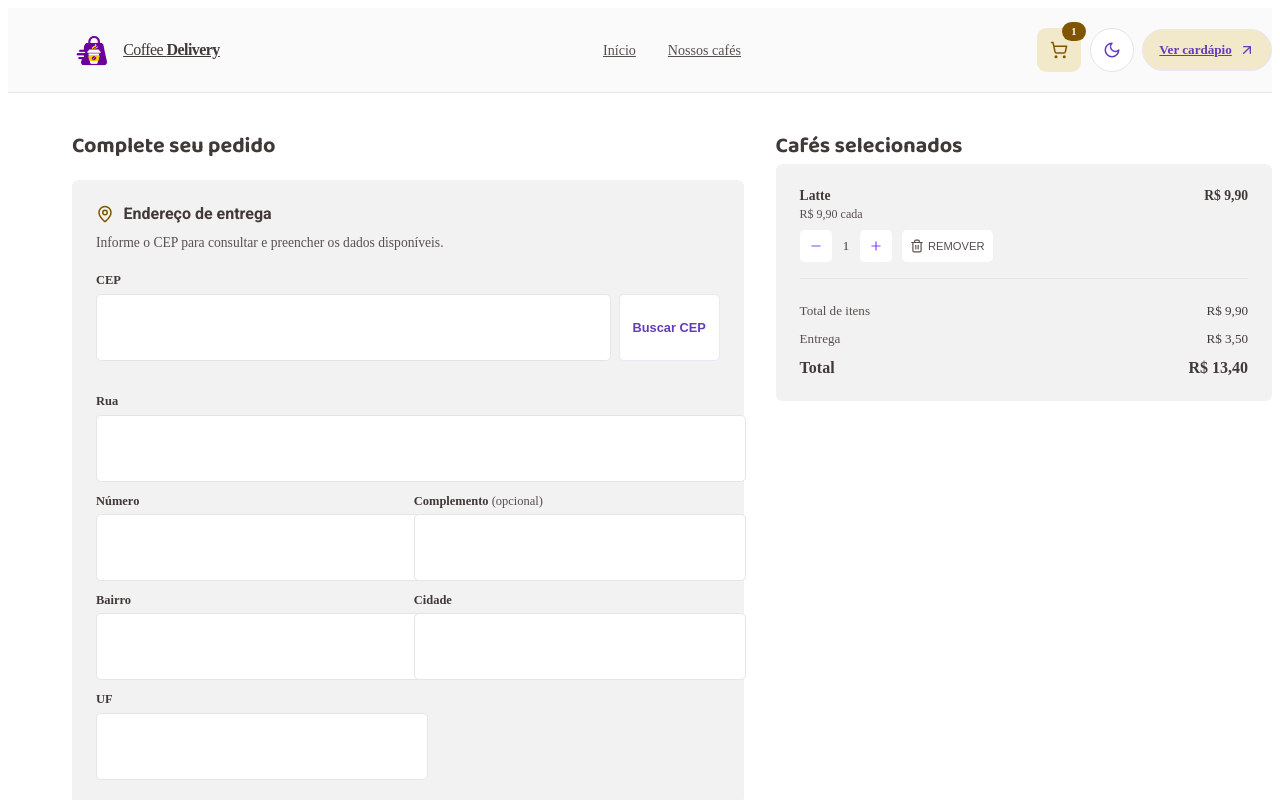
Test: CheckoutPage › removes the last coffee, clears persisted items and returns to the empty-cart state
What coordinates should you click on to do the following:
click the button with aria-label "Remover Latte"
I would click on:
 (947, 246)
Its box is [902,230,992,262].
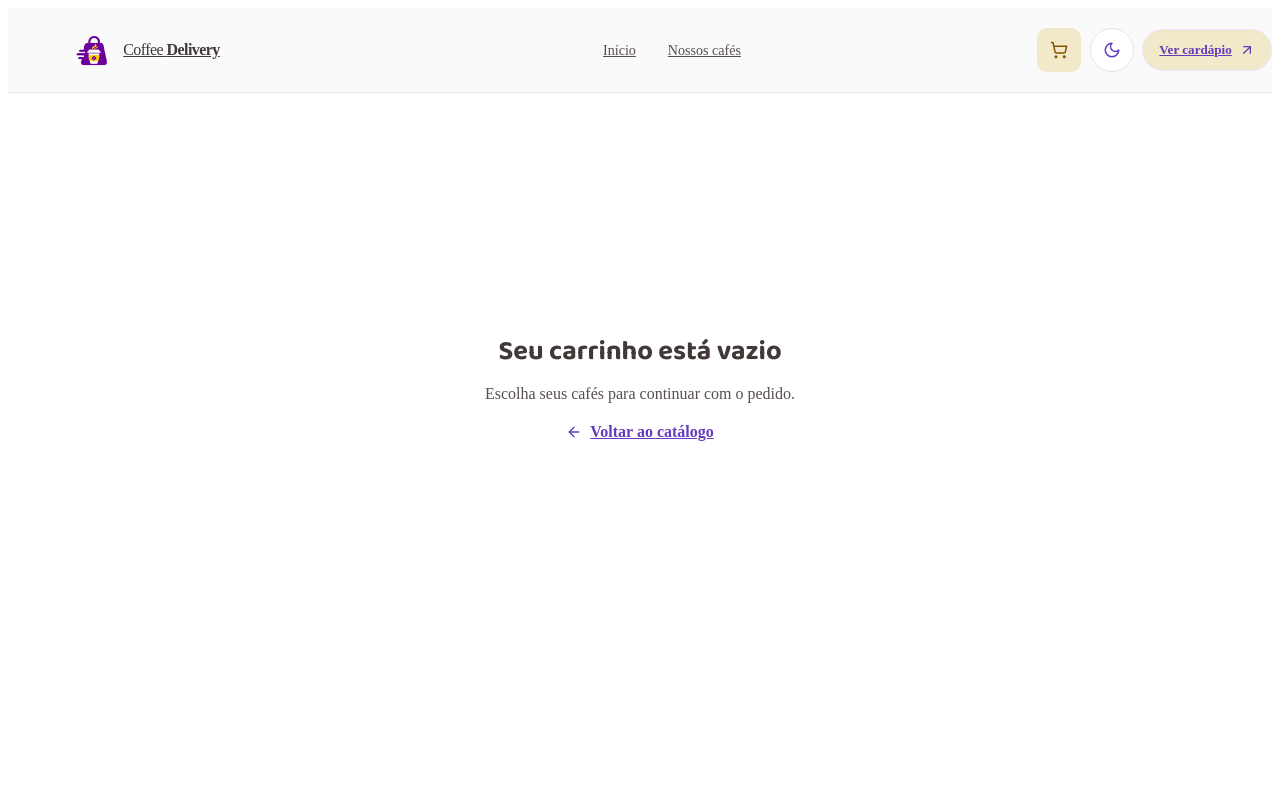
Expected: the heading "Seu carrinho está vazio" is shown, [498,330,782,372]
Expected: the link named "Carrinho vazio" is shown, [1037,28,1081,72]
